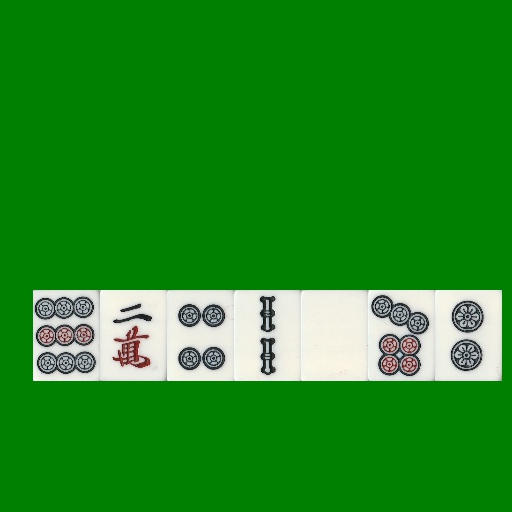2m: (100, 290, 167, 381)
2p: (435, 290, 502, 381)
2s: (234, 290, 301, 381)
4p: (167, 290, 234, 381)
7p: (368, 290, 435, 381)
9p: (33, 290, 100, 381)
white: (301, 290, 368, 381)
